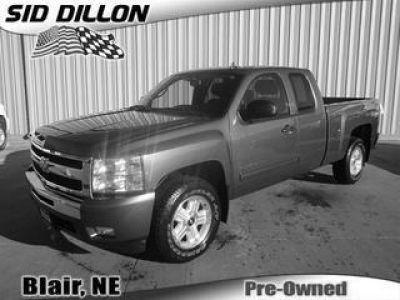car: (21, 64, 389, 266)
